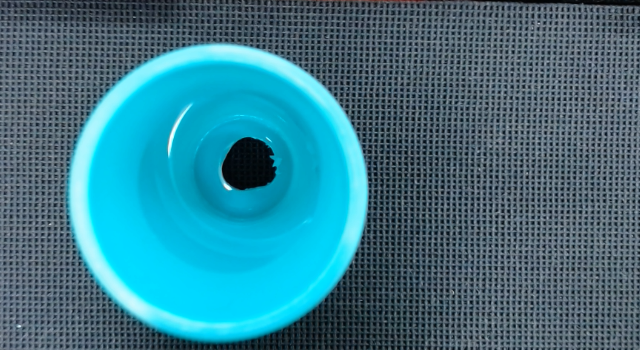hole: (222, 137, 276, 190)
